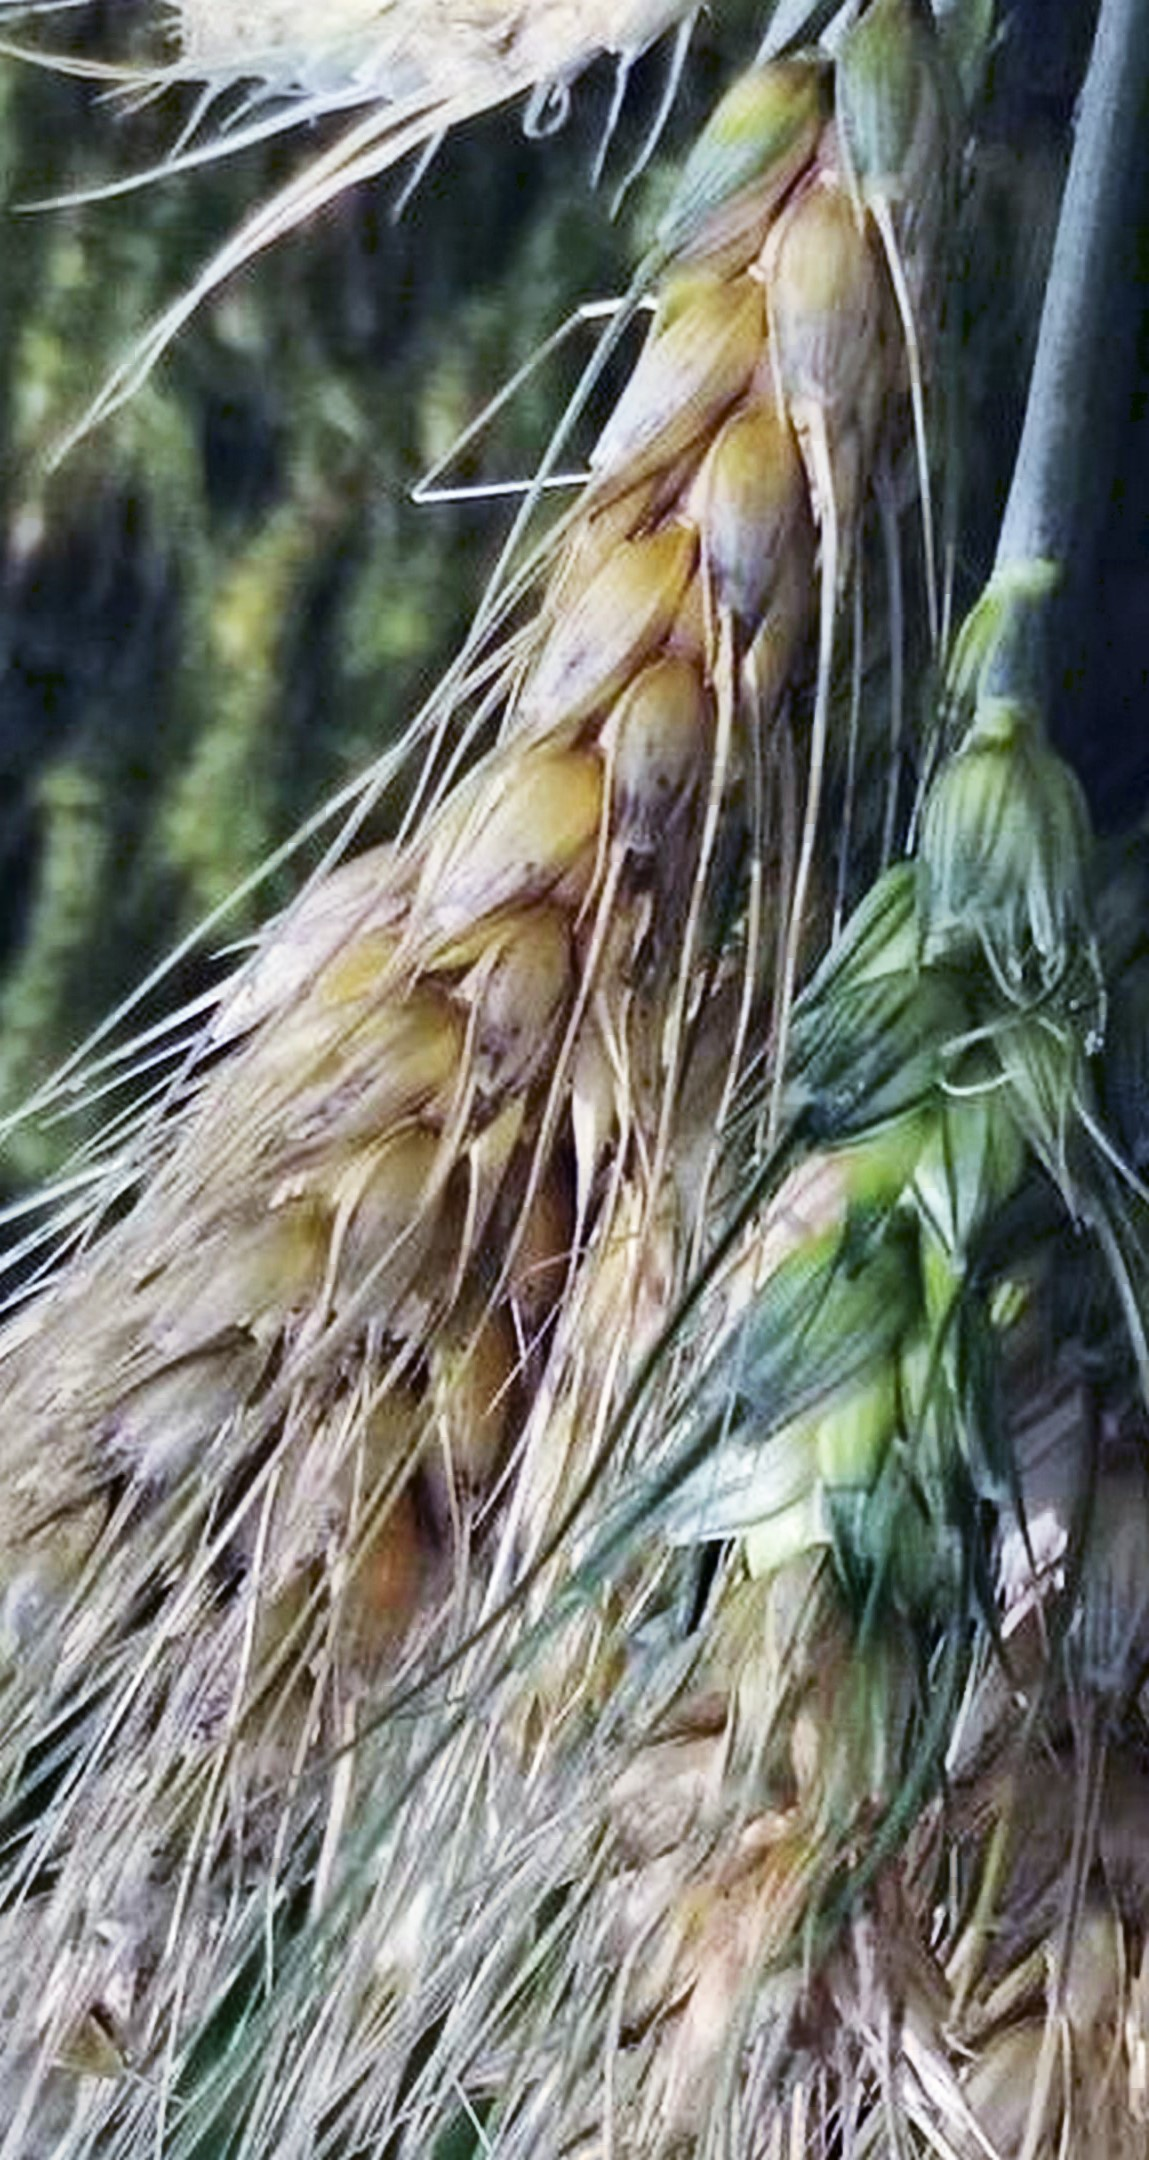Wheat scab: (174, 10, 978, 1261)
